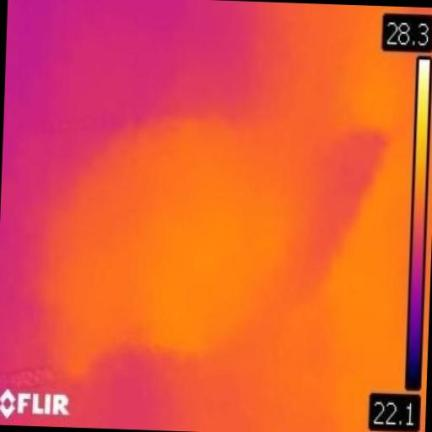mango: (43, 118, 313, 370)
